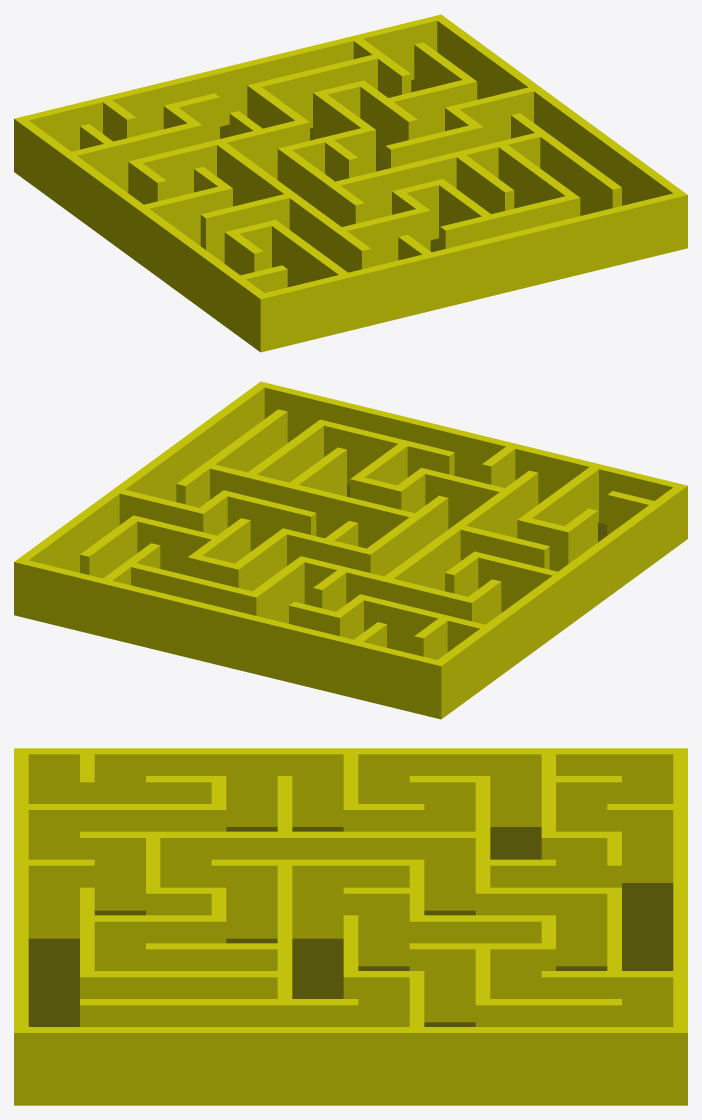
The model's file is Level16Ground.FBX.
3 renders of one model, top to bottom at view 1: azimuth 30°, elevation 25°; view 2: azimuth 150°, elevation 25°; view 3: azimuth 270°, elevation 25°, orthographic. The views are drawn at different scales.
Parts seen in each view (by area): view 1: pPlane2; view 2: pPlane2; view 3: pPlane2.
Part boxes in pixels (box(x1,y1,x2,y2)): pPlane2: box(14, 14, 687, 352); pPlane2: box(14, 381, 687, 719); pPlane2: box(14, 748, 687, 1105).
Bounding box in the file's own units: 235 × 28 × 235.
